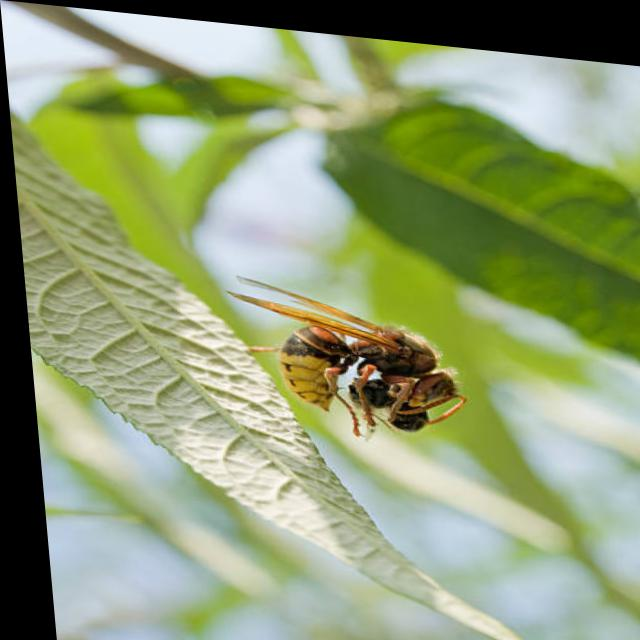Vespa Crabro: (213, 260, 514, 469)
